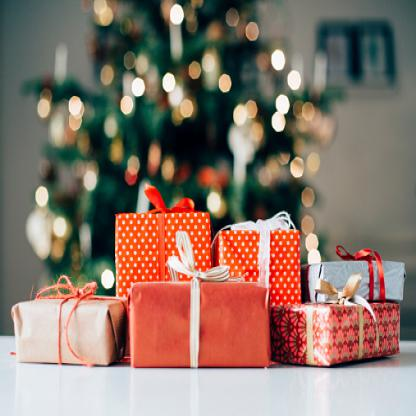present: (118, 255, 281, 374), (12, 265, 127, 368), (97, 191, 210, 284), (283, 293, 406, 362), (218, 218, 304, 305), (302, 258, 410, 314)
